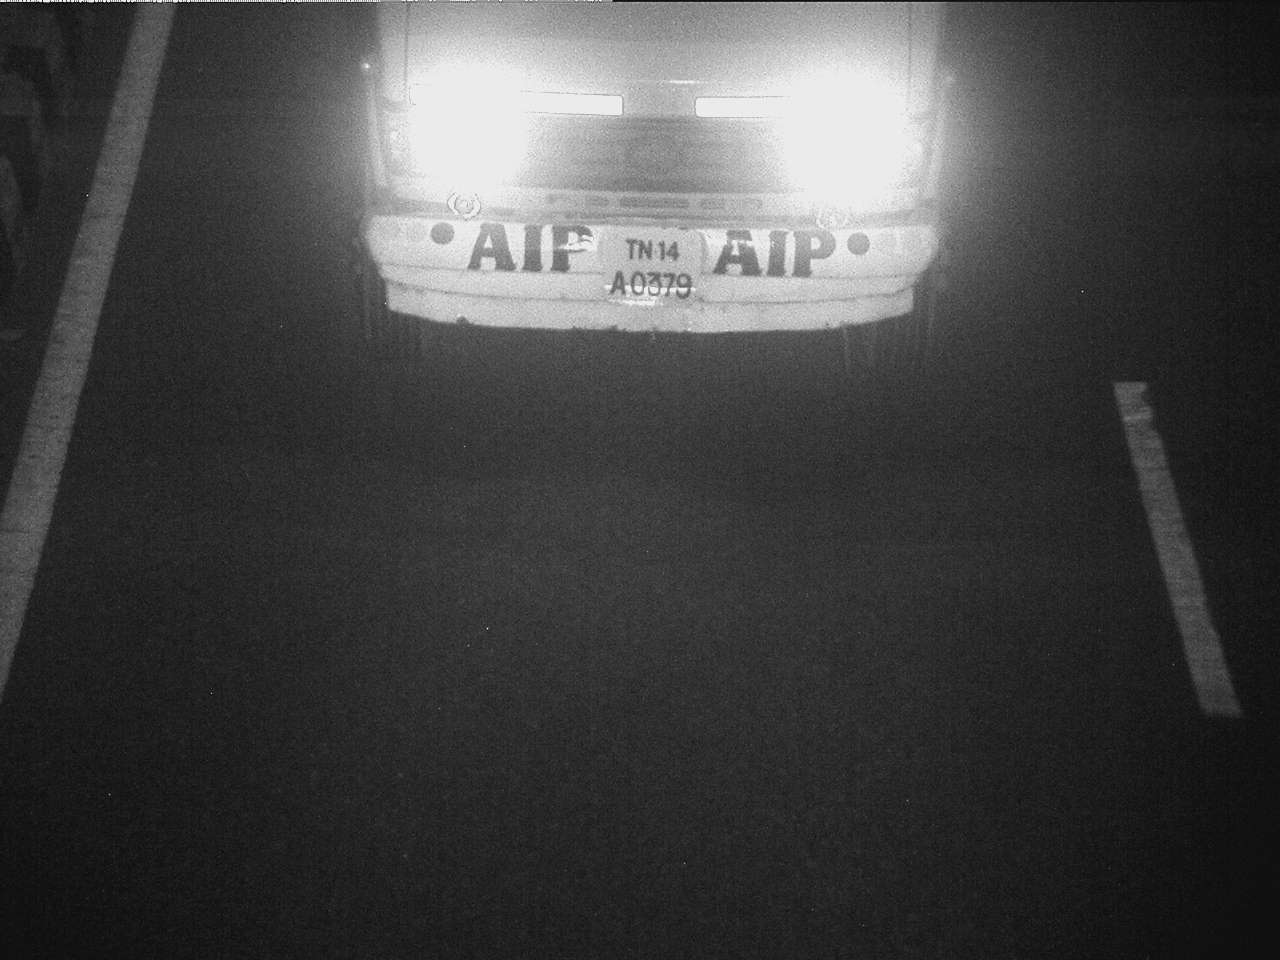numberplate: (596, 228, 710, 315)
truck: (354, 1, 961, 377)
